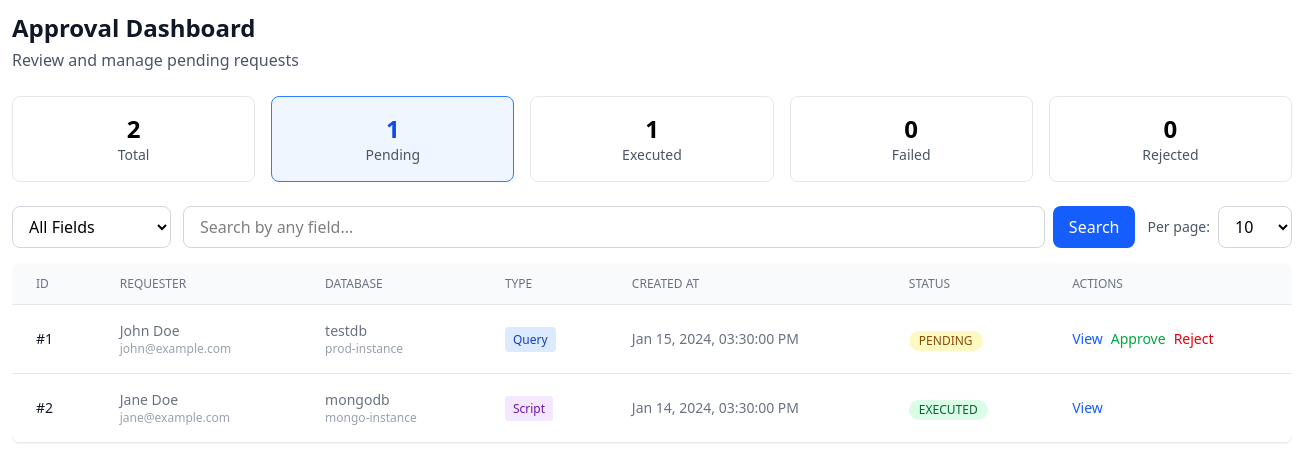
Test: ApprovalDashboard - Fixed Tests › Search and clear functionality › should clear search when clicking Clear button
The width and height of the screenshot is (1304, 460).
Check: the text "#1" is shown, box [12,304,96,374]
// Type in search
Type "test search" into the field with placeholder "Search by any field...".
click(614, 227); type("test search")  # box [183,206,1045,248]
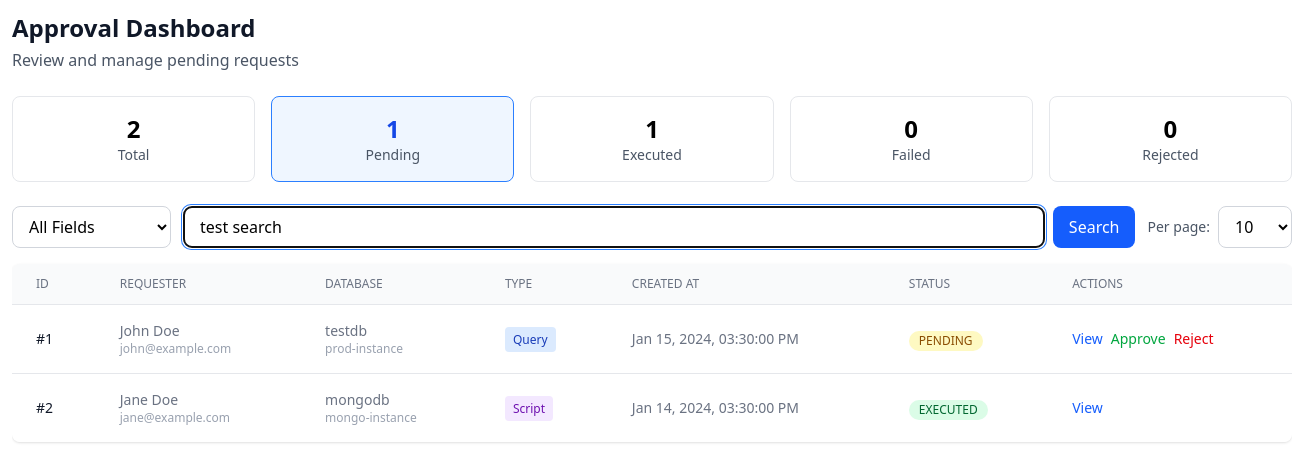
// Click search
Click the button "Search".
click(1094, 227)  # box [1053,206,1135,248]
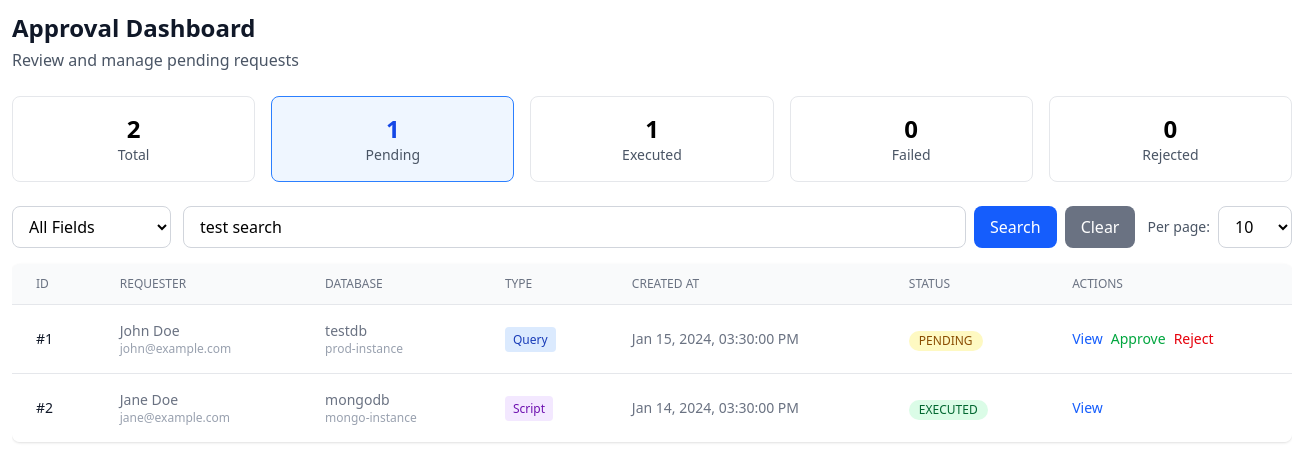
Check: the button "Clear" is shown
// Click clear
Click the button "Clear".
click(1100, 227)  # box [1065,206,1136,248]
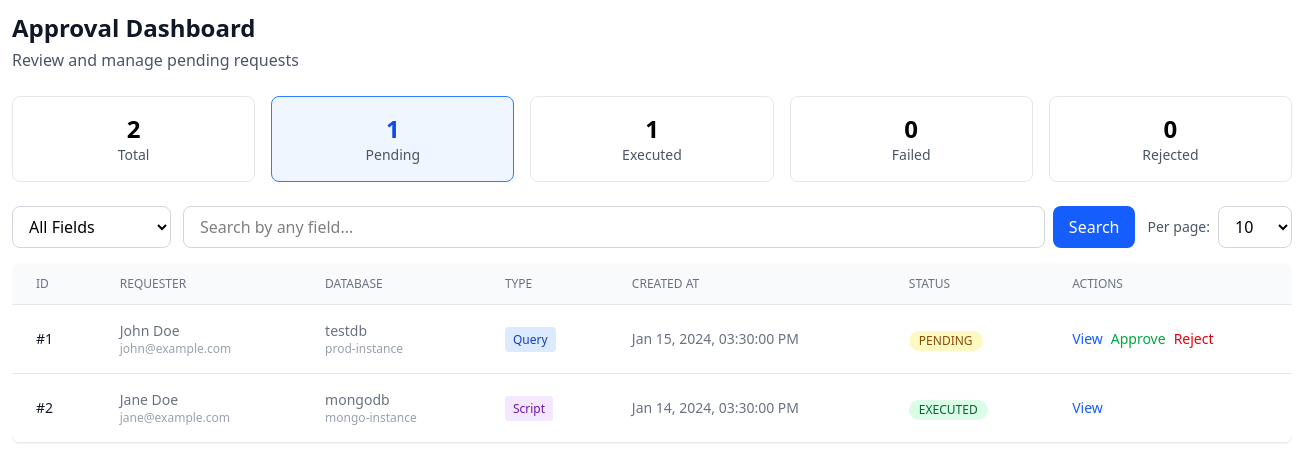
Check: the field with placeholder "Search by any field..." is empty, box [183,206,1045,248]
Check: the button "Clear" is gone
